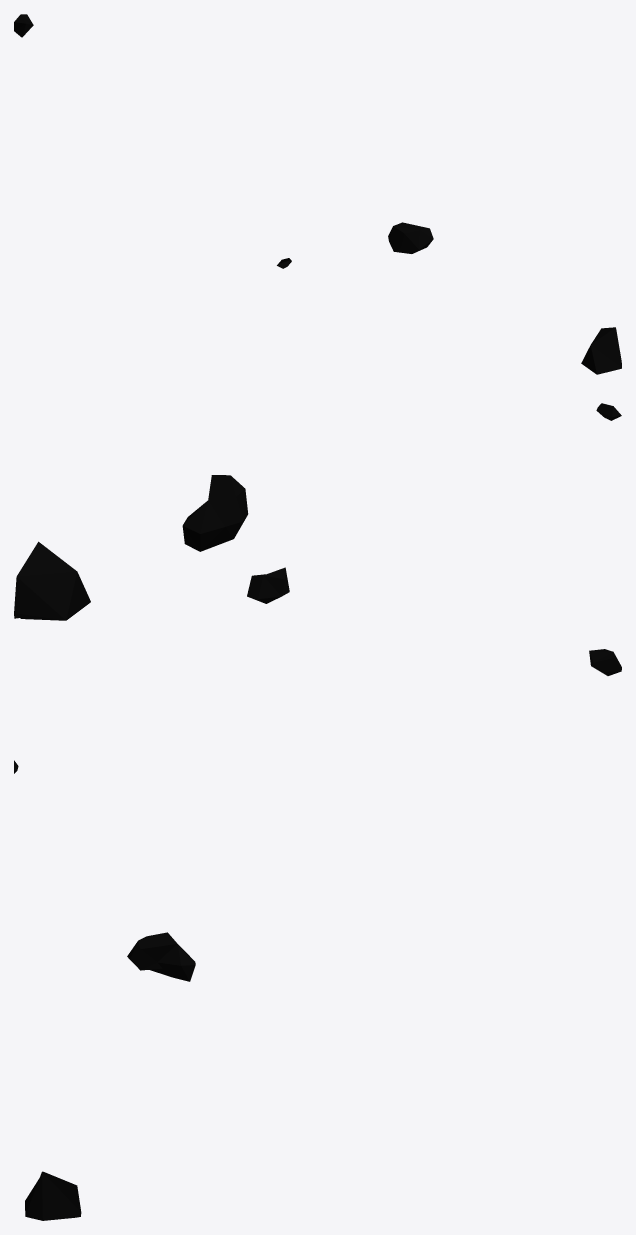
The picture shows the model from 3 angles, top to bottom: view 1: azimuth 30°, elevation 25°; view 2: azimuth 150°, elevation 25°; view 3: azimuth 270°, elevation 25°; orthographic projection. The views are drawn at different scales.
Size of the model in its own units: 2.43 by 1.64 by 2.66.
1 material, 1 textured.
